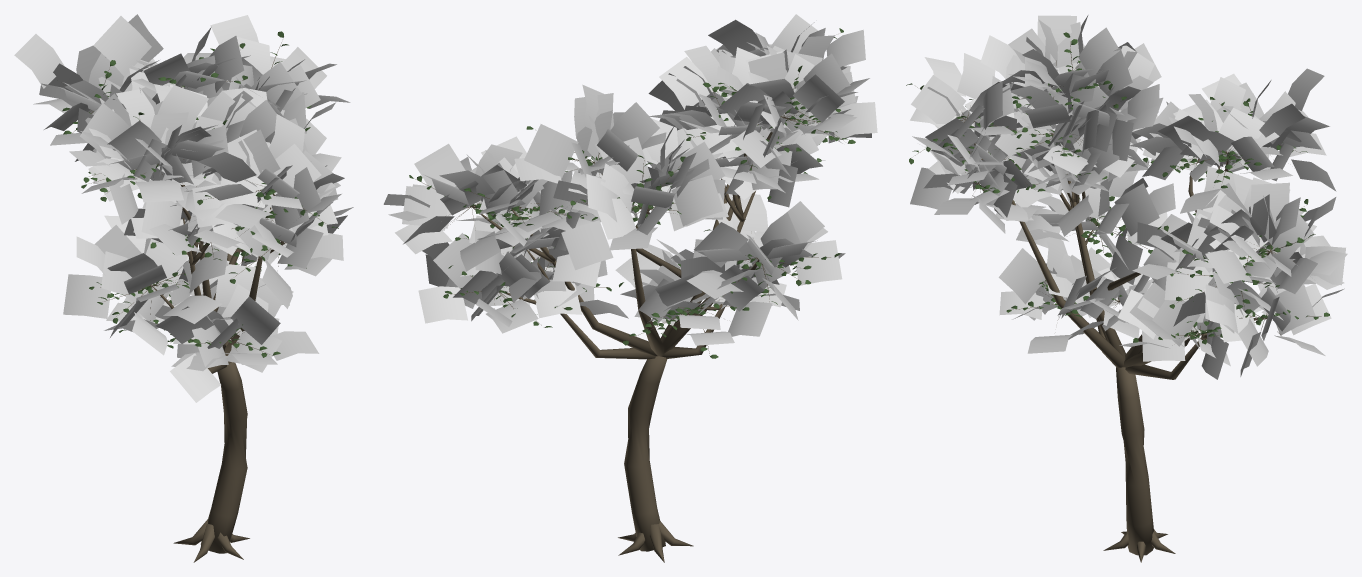
The model's file is CheneVert_Ancien_LOD0.fbx.
3 views of the same model, side by side, from view 1: azimuth 30°, elevation 25°; view 2: azimuth 150°, elevation 25°; view 3: azimuth 270°, elevation 25° (orthographic). The views are drawn at different scales.
Parts seen in each view (by area): view 1: CheneVert_Ancien; view 2: CheneVert_Ancien; view 3: CheneVert_Ancien.
Boxes of the visible parts, x1,y1,x2,y2 form: CheneVert_Ancien: (14, 14, 353, 562); CheneVert_Ancien: (383, 14, 877, 562); CheneVert_Ancien: (906, 15, 1347, 562).
Bounding box in the file's own units: 676 × 861 × 730.
